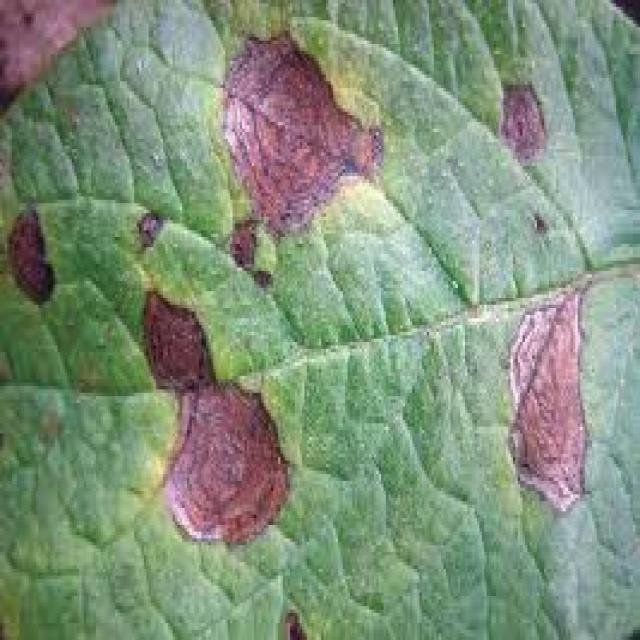earlyblight: (144, 293, 287, 541), (225, 37, 383, 234), (510, 288, 586, 509), (9, 210, 54, 301), (500, 87, 546, 162), (233, 221, 275, 287), (137, 217, 163, 246)
